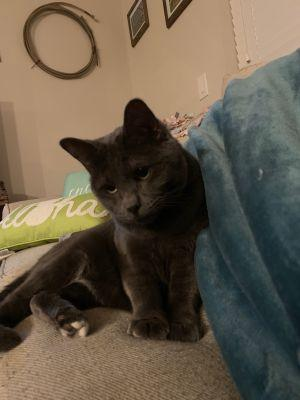rblue: (55, 96, 197, 235)
